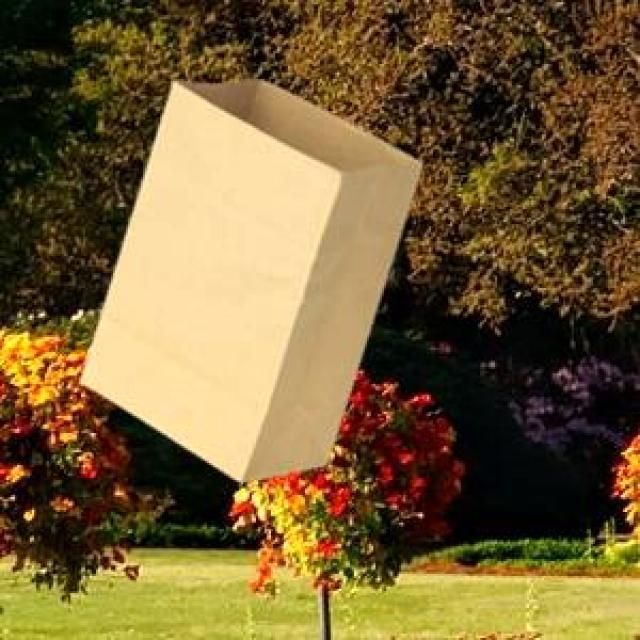Paper_Bag: (78, 76, 420, 479)
